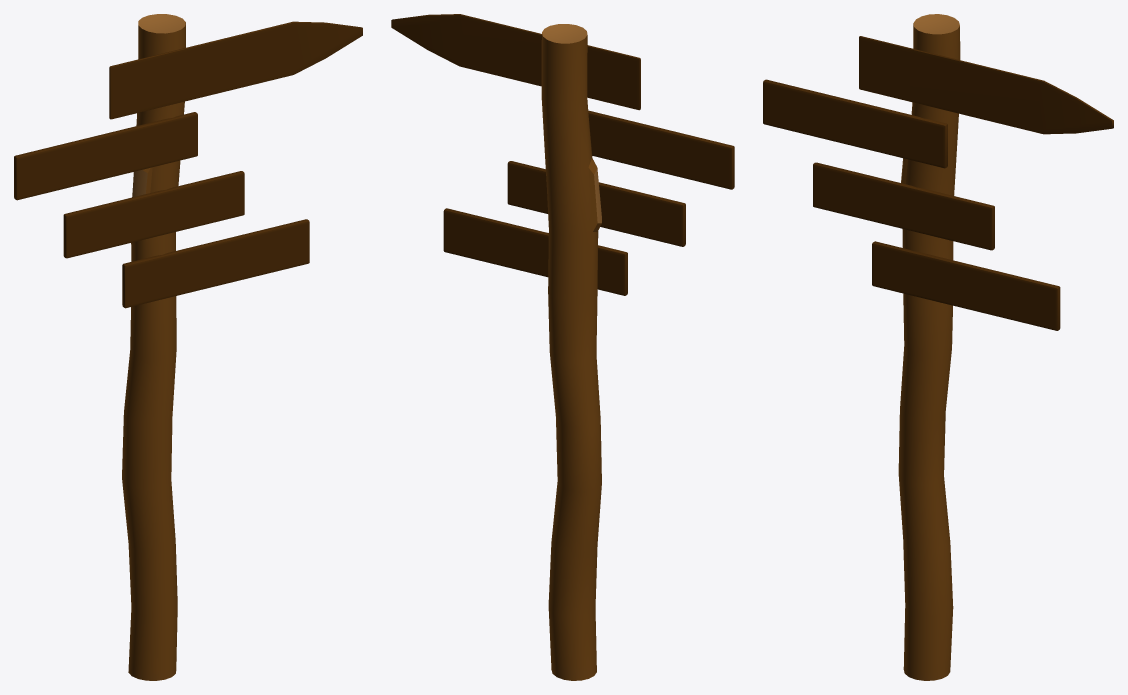
The model's file is Wegweiser_Hauptmenu_JT_02.fbx.
The picture shows the model from 3 angles, left to right: view 1: azimuth 30°, elevation 25°; view 2: azimuth 150°, elevation 25°; view 3: azimuth 330°, elevation 25°; orthographic projection. The views are drawn at different scales.
Parts seen in each view (by area): view 1: Menu, BrettStart, Brett3, Brett1, Brett2; view 2: Menu, BrettStart, Brett1, Brett3, Brett2; view 3: Menu, BrettStart, Brett3, Brett1, Brett2.
Part boxes in pixels (bbox=[...]): Menu: bbox=[122, 14, 185, 680]; BrettStart: bbox=[109, 21, 362, 119]; Brett3: bbox=[122, 219, 309, 308]; Brett1: bbox=[14, 112, 197, 200]; Brett2: bbox=[63, 171, 244, 258]; Menu: bbox=[541, 24, 601, 680]; BrettStart: bbox=[391, 14, 640, 110]; Brett1: bbox=[588, 110, 734, 189]; Brett3: bbox=[443, 208, 627, 295]; Brett2: bbox=[507, 161, 685, 246]; Menu: bbox=[898, 14, 960, 680]; BrettStart: bbox=[859, 36, 1113, 134]; Brett3: bbox=[872, 241, 1060, 330]; Brett1: bbox=[763, 79, 947, 168]; Brett2: bbox=[813, 162, 994, 250].
Size of the model in its own units: 169 by 300 by 21.66.
